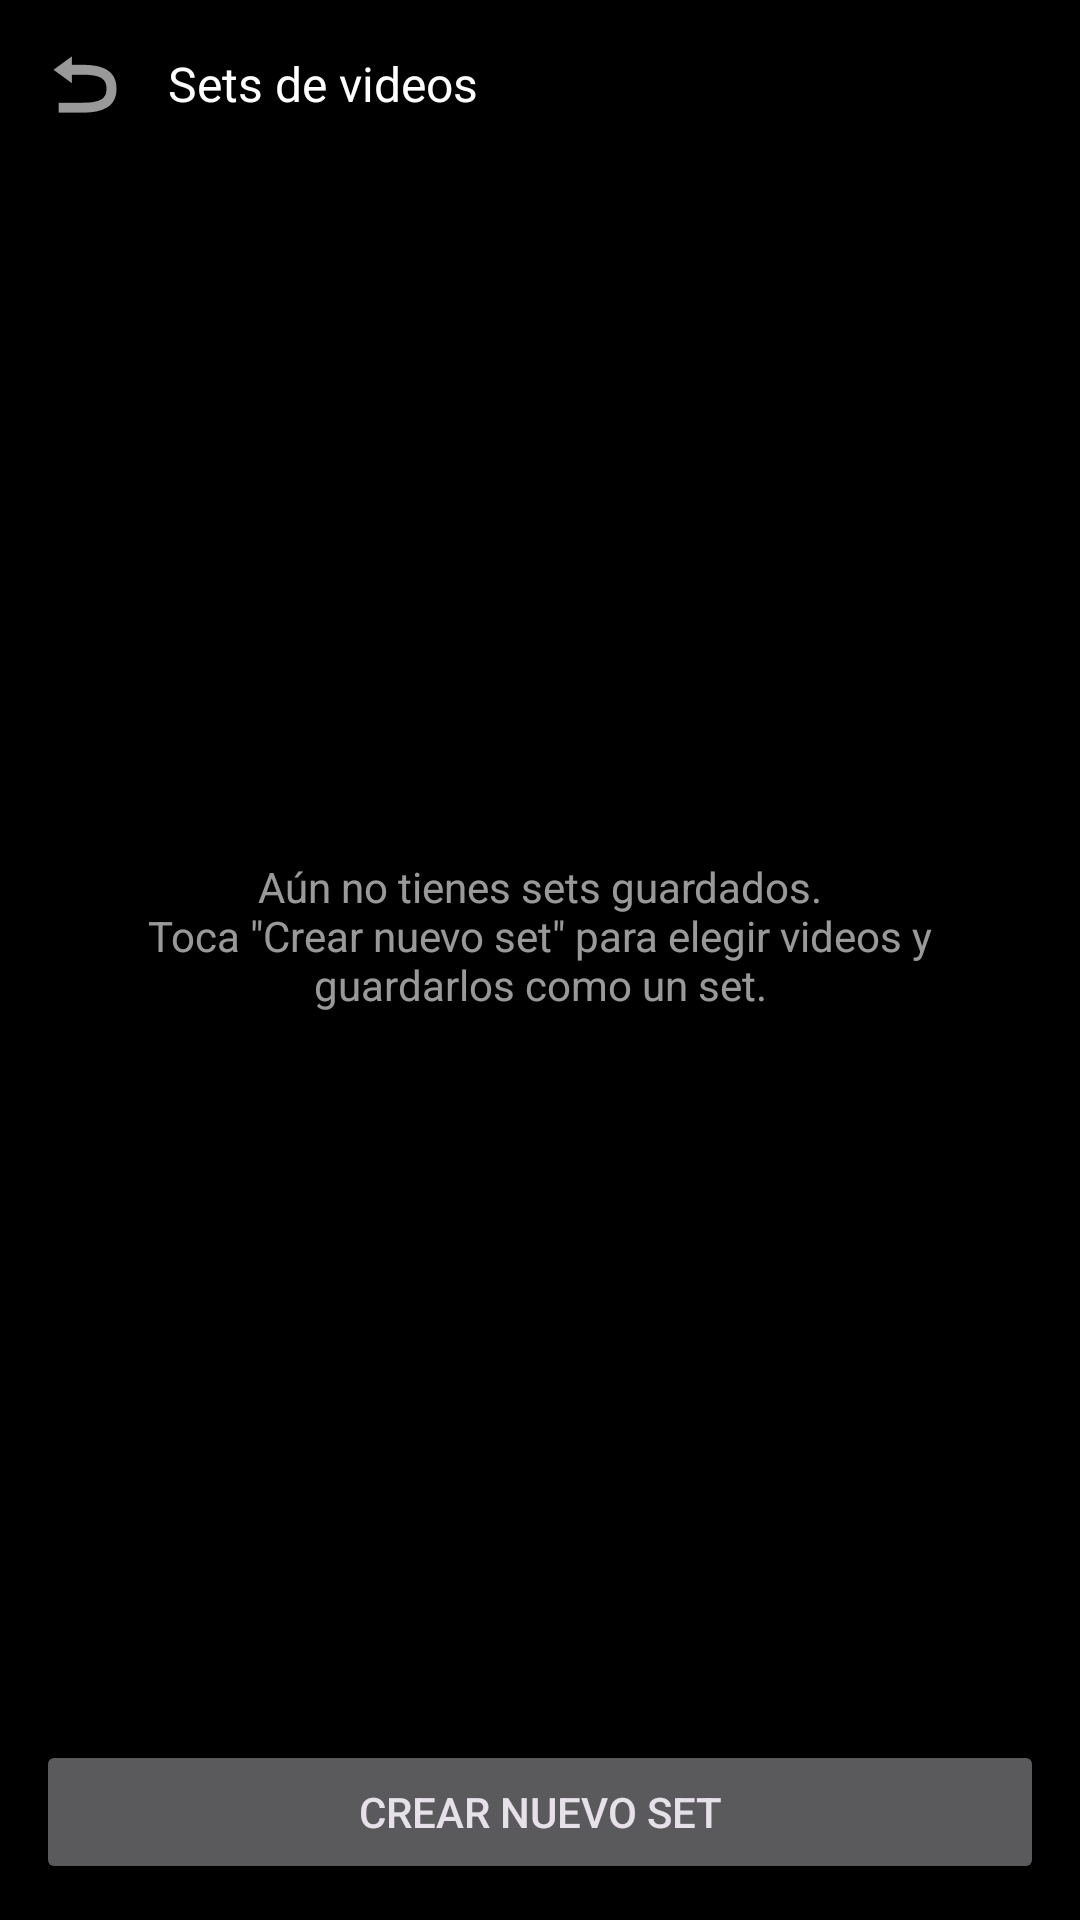

Icon bounding boxes for this 1080px×1920px phone screenshot, format (x1, y1, x2, y2):
Subir un nivel: (54, 56, 117, 113)
